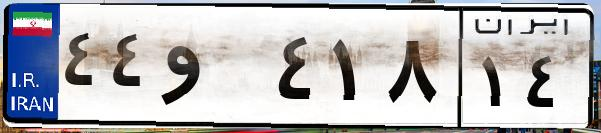1: (330, 28, 385, 110), (475, 38, 525, 113)
4: (270, 28, 330, 110), (57, 26, 110, 100), (525, 38, 570, 115), (110, 28, 158, 98)
8: (385, 28, 445, 110)
و: (158, 20, 270, 120)
